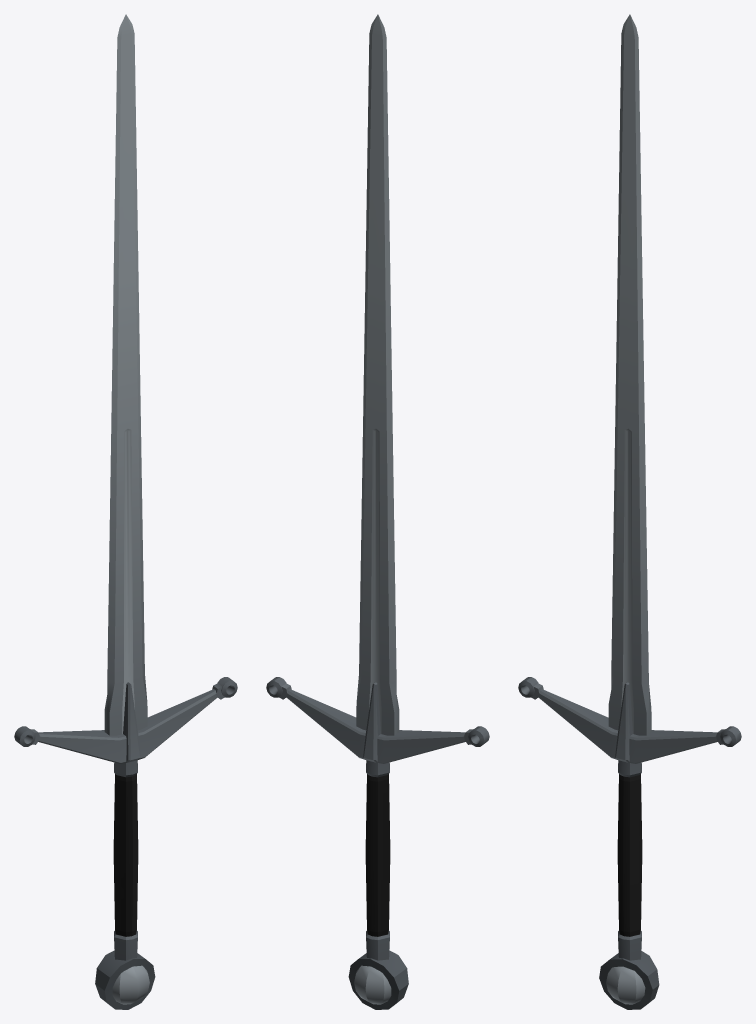
The model's file is SM_Sword02_Claymore_1.fbx.
3 renders of one model, left to right at view 1: azimuth 30°, elevation 25°; view 2: azimuth 150°, elevation 25°; view 3: azimuth 330°, elevation 25°, orthographic.
Parts seen in each view (by area): view 1: Cube.314, Cube.315, Cylinder.387, Cylinder.388, Sphere.118, Cylinder.386; view 2: Cube.314, Cube.315, Cylinder.387, Cylinder.388, Sphere.118, Cylinder.386; view 3: Cube.314, Cube.315, Cylinder.387, Cylinder.388, Sphere.118, Cylinder.386.
Boxes of the visible parts, <box> form: Cube.314: <box>104,14,147,735</box>; Cube.315: <box>38,682,217,763</box>; Cylinder.387: <box>113,760,138,960</box>; Cylinder.388: <box>95,950,155,1009</box>; Sphere.118: <box>112,965,149,1004</box>; Cylinder.386: <box>14,677,237,746</box>; Cube.314: <box>356,14,399,735</box>; Cube.315: <box>286,682,465,763</box>; Cylinder.387: <box>365,760,390,960</box>; Cylinder.388: <box>348,950,408,1009</box>; Sphere.118: <box>354,965,391,1004</box>; Cylinder.386: <box>266,677,489,746</box>; Cube.314: <box>608,14,651,735</box>; Cube.315: <box>538,682,717,763</box>; Cylinder.387: <box>617,760,642,960</box>; Cylinder.388: <box>599,951,659,1009</box>; Sphere.118: <box>606,966,645,1004</box>; Cylinder.386: <box>518,677,741,746</box>.
Bounding box in the file's own units: 0.2982 × 1.3 × 0.0587.
